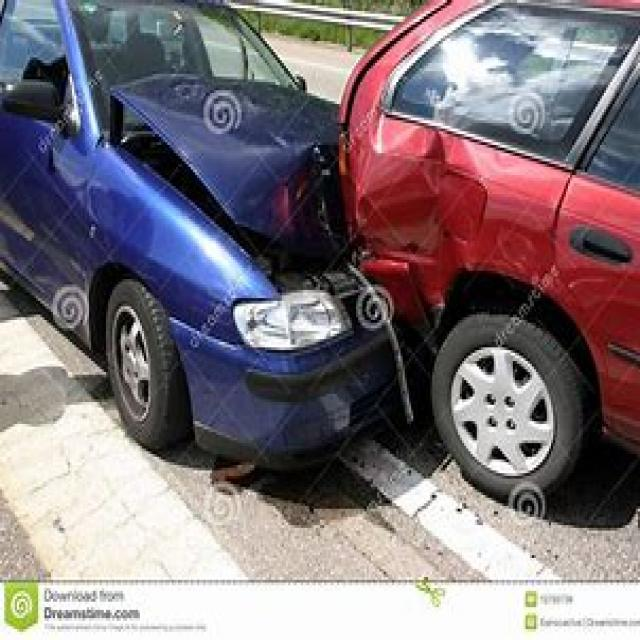Accident: (118, 41, 579, 501)
